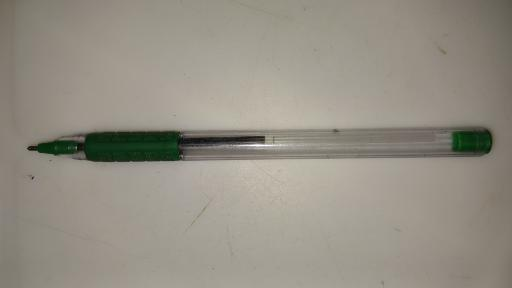pen: (26, 129, 495, 162)
